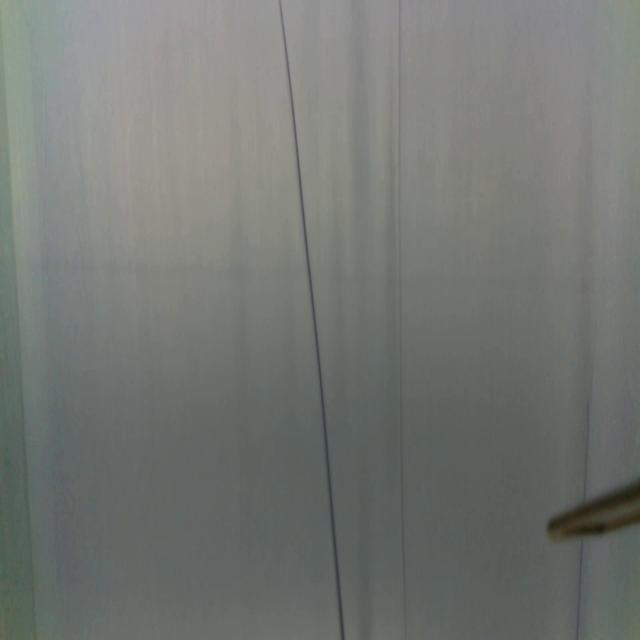color bleeding: (7, 240, 640, 309)
crease: (279, 0, 347, 640), (0, 40, 41, 632), (395, 0, 411, 640), (582, 363, 598, 494), (572, 545, 586, 640)
